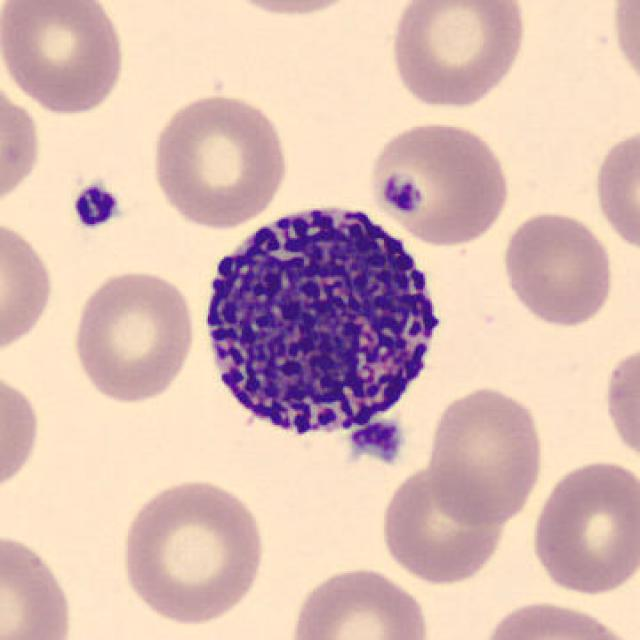Basophil: (190, 187, 459, 483)
Platelets: (68, 178, 124, 233), (352, 418, 407, 467), (379, 173, 423, 215)
RBC: (116, 472, 270, 628), (146, 88, 292, 231), (368, 116, 512, 248), (68, 264, 199, 406), (423, 383, 548, 529), (375, 460, 512, 586), (384, 0, 532, 111), (528, 455, 638, 599), (0, 0, 130, 116), (498, 206, 618, 330), (284, 562, 434, 640), (0, 527, 78, 640), (0, 212, 57, 360), (476, 596, 636, 640), (590, 122, 638, 256), (0, 74, 44, 215), (0, 365, 44, 501), (599, 338, 638, 471), (608, 0, 640, 99), (211, 0, 371, 19)
